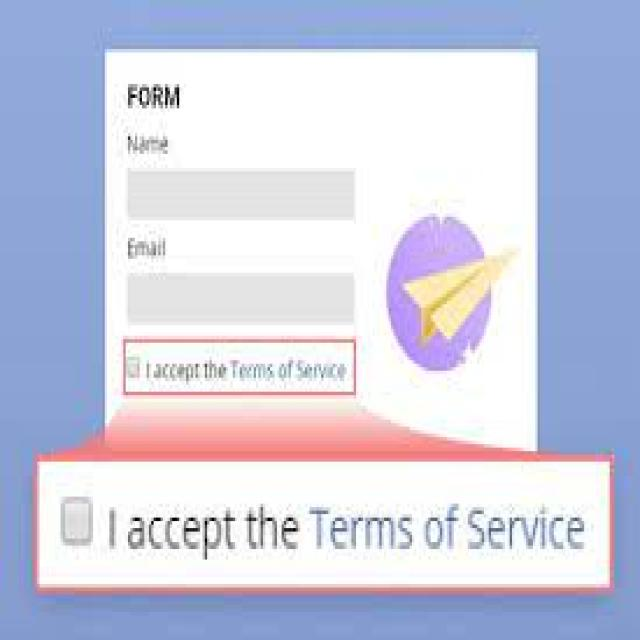Image: (388, 199, 503, 369)
checkbox: (58, 486, 592, 568), (127, 346, 356, 394)
input-fields: (127, 270, 359, 332), (128, 168, 358, 223)
text: (123, 78, 181, 114)
